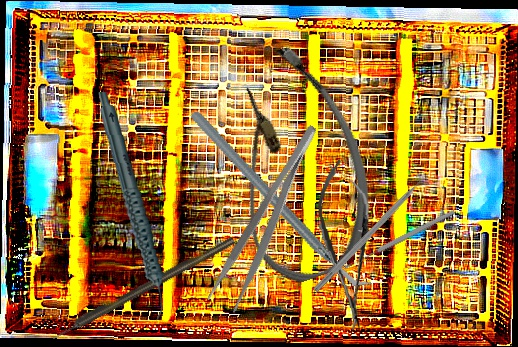Cannula: (195, 35, 395, 294)
Chopper: (189, 75, 374, 326), (312, 169, 439, 300)
Dressing Forceps: (203, 121, 337, 316)
Handpiece: (98, 90, 166, 322)
Hook Surgical: (50, 235, 236, 342)
Micro Scissor: (311, 156, 381, 334)
Surgical Spoon: (342, 208, 457, 271)
